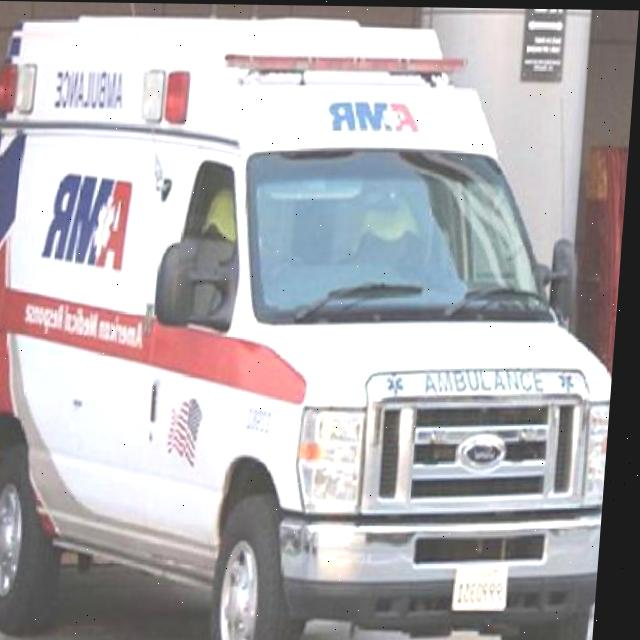emergency: (0, 10, 639, 640)
